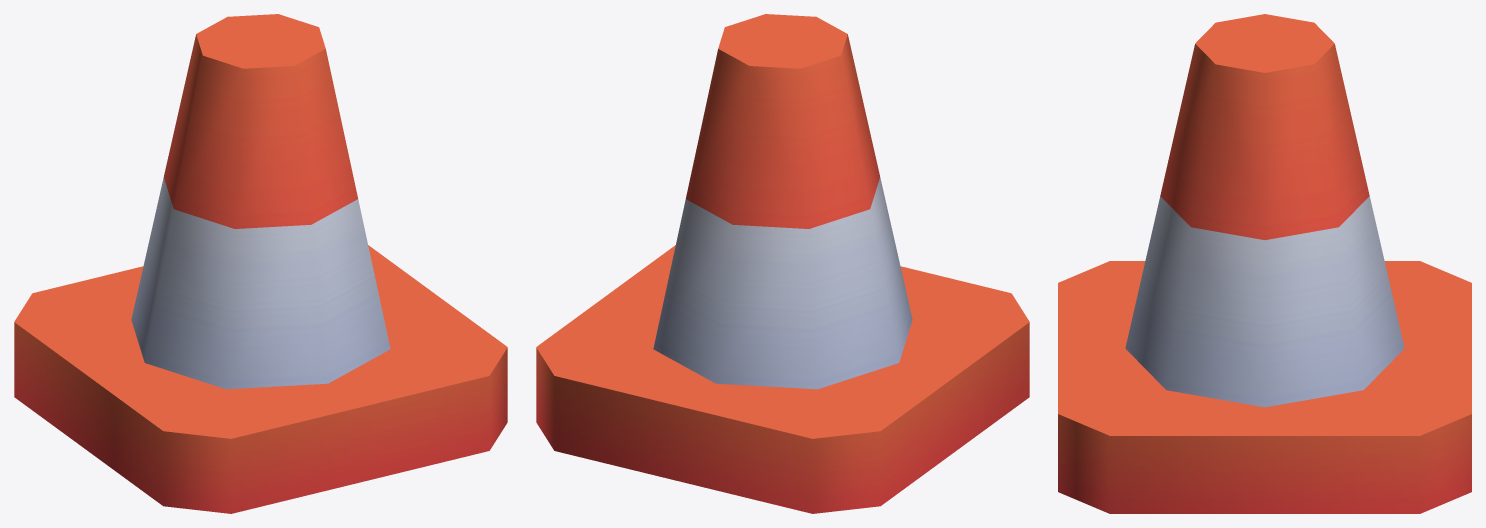
Rendered from item-cone.fbx.
3 renders of one model, left to right at view 1: azimuth 30°, elevation 25°; view 2: azimuth 150°, elevation 25°; view 3: azimuth 270°, elevation 25°, orthographic. The views are drawn at different scales.
Parts seen in each view (by area): view 1: item-cone; view 2: item-cone; view 3: item-cone.
Boxes of the visible parts, x1,y1,x2,y2 form: item-cone: (14, 14, 507, 513); item-cone: (536, 14, 1029, 513); item-cone: (1058, 14, 1471, 513).
Size of the model in its own units: 24 by 24.52 by 24.
